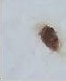Corrosion: (37, 24, 60, 52)
